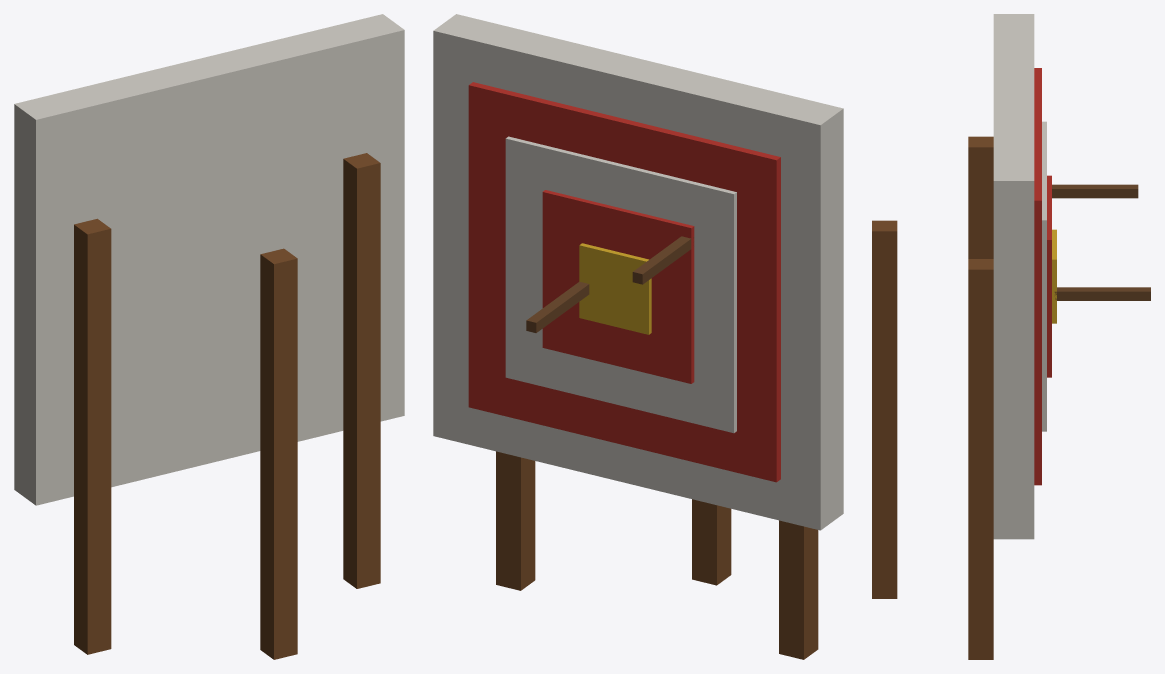
File: ld-archery-target.glb
3 views of the same model, side by side, from view 1: azimuth 30°, elevation 25°; view 2: azimuth 150°, elevation 25°; view 3: azimuth 270°, elevation 25° (orthographic). The views are drawn at different scales.
Parts seen in each view (by area): view 1: box-prop; view 2: box-prop; view 3: box-prop.
Boxes of the visible parts, bbox=[...] form: box-prop: bbox=[14, 14, 404, 659]; box-prop: bbox=[433, 14, 843, 659]; box-prop: bbox=[872, 14, 1150, 659].
Bounding box in the file's own units: 1.56 × 2.16 × 1.1.
